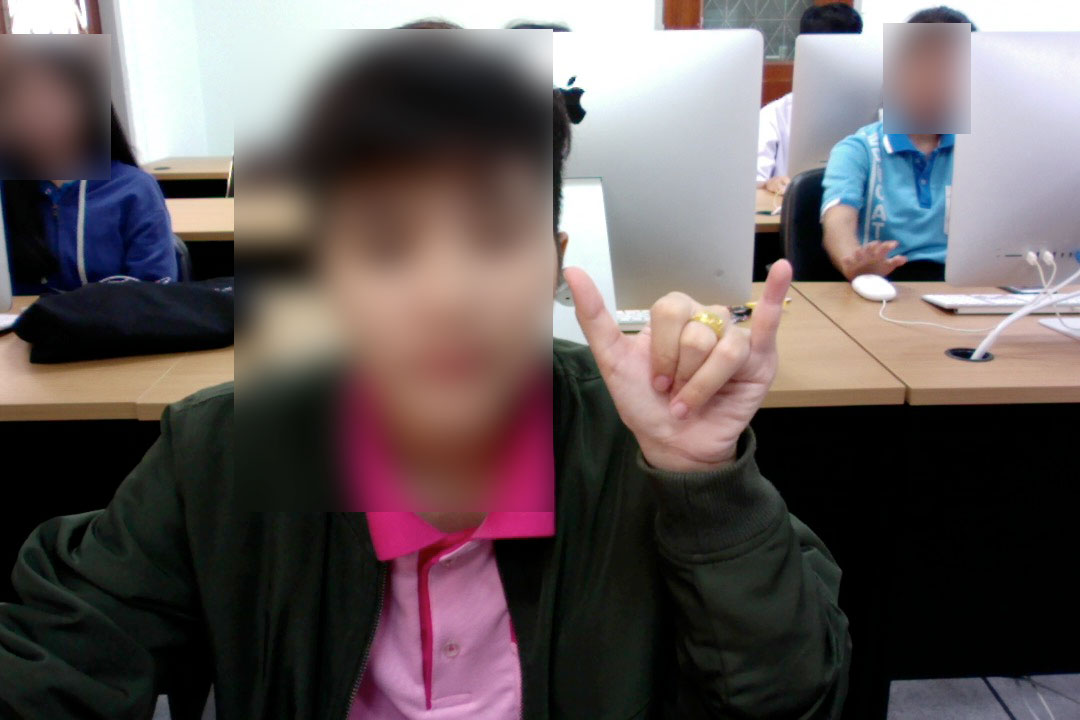yor: (554, 254, 800, 482)
